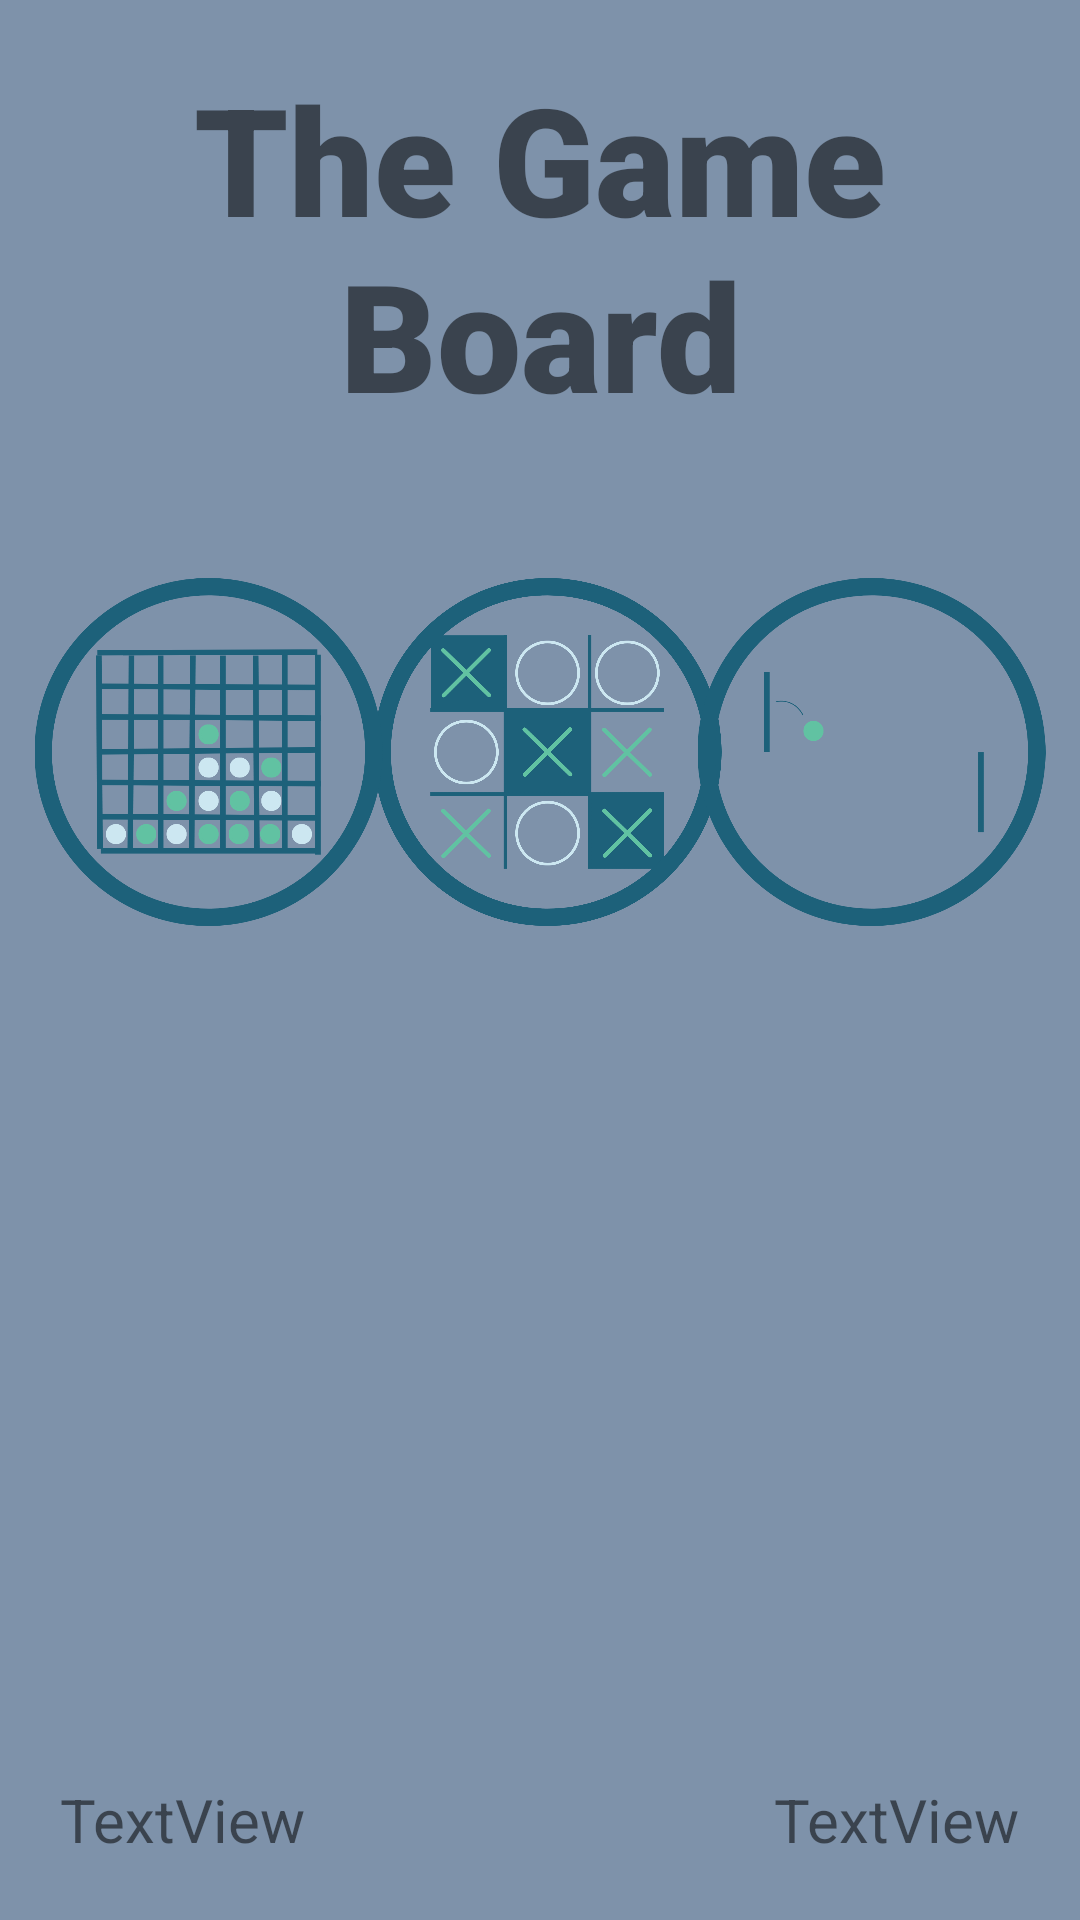

Screen size 1080px×1920px. Icon name, then its box in pixels as [x1,y1,x2,y2]:
connect: [96,649,321,855]
